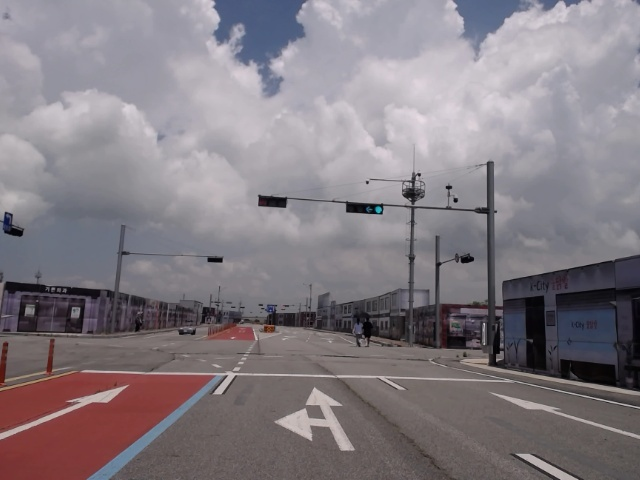all_green_4: (347, 202, 383, 215)
